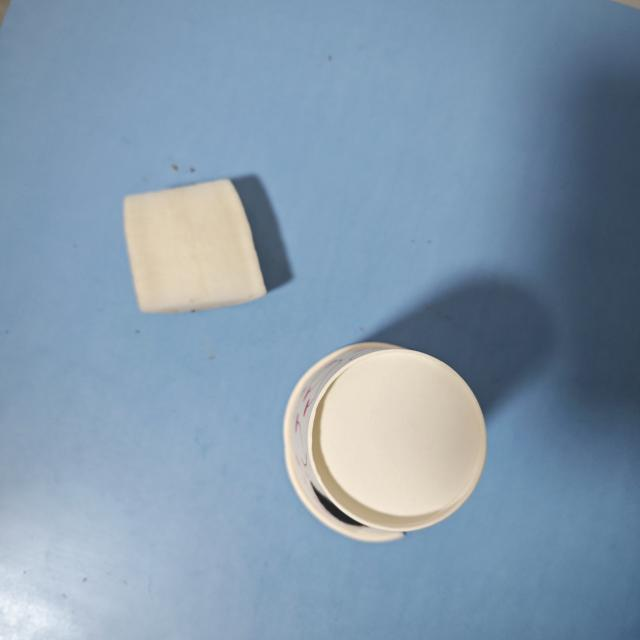-Kitchen waste - white radish-: (119, 176, 272, 316)
-Recyclables - paper cup-: (280, 338, 491, 546)
